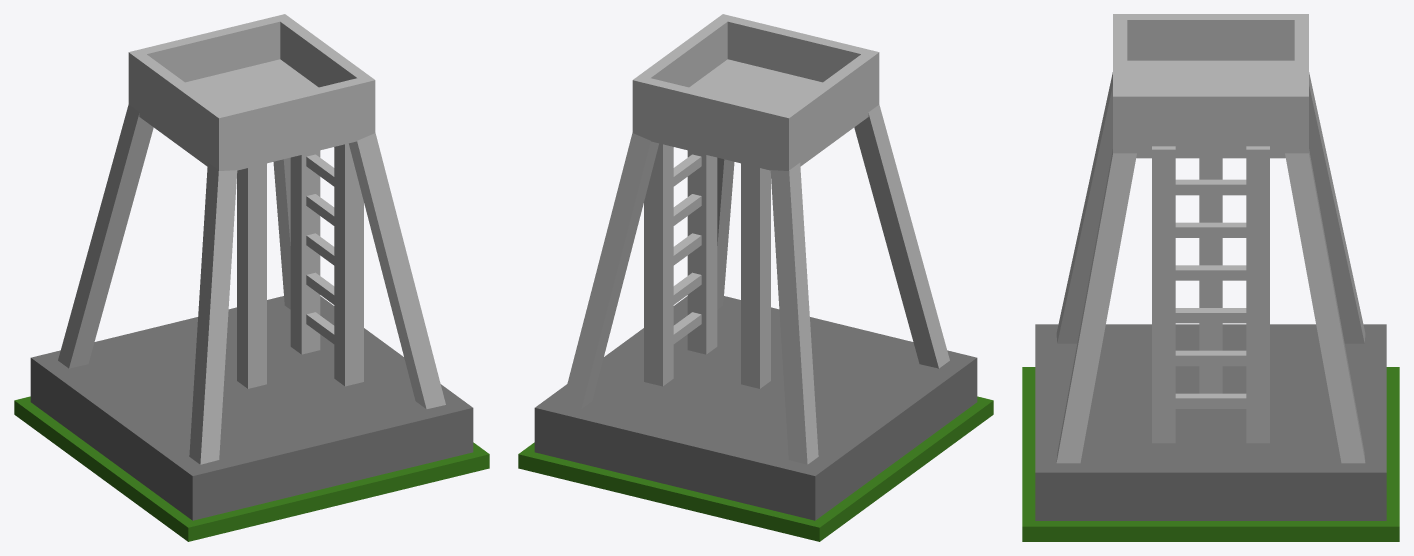
The model's file is lvl19.glb.
3 renders of one model, left to right at view 1: azimuth 30°, elevation 25°; view 2: azimuth 150°, elevation 25°; view 3: azimuth 270°, elevation 25°, orthographic. The views are drawn at different scales.
Parts seen in each view (by area): view 1: Plane.018; view 2: Plane.018; view 3: Plane.018.
Part boxes in pixels (x1,y1,x2,y2): Plane.018: (14,14,489,541); Plane.018: (518,14,993,541); Plane.018: (1022,14,1399,541).
Bounding box in the file's own units: 4 × 4.76 × 4.
